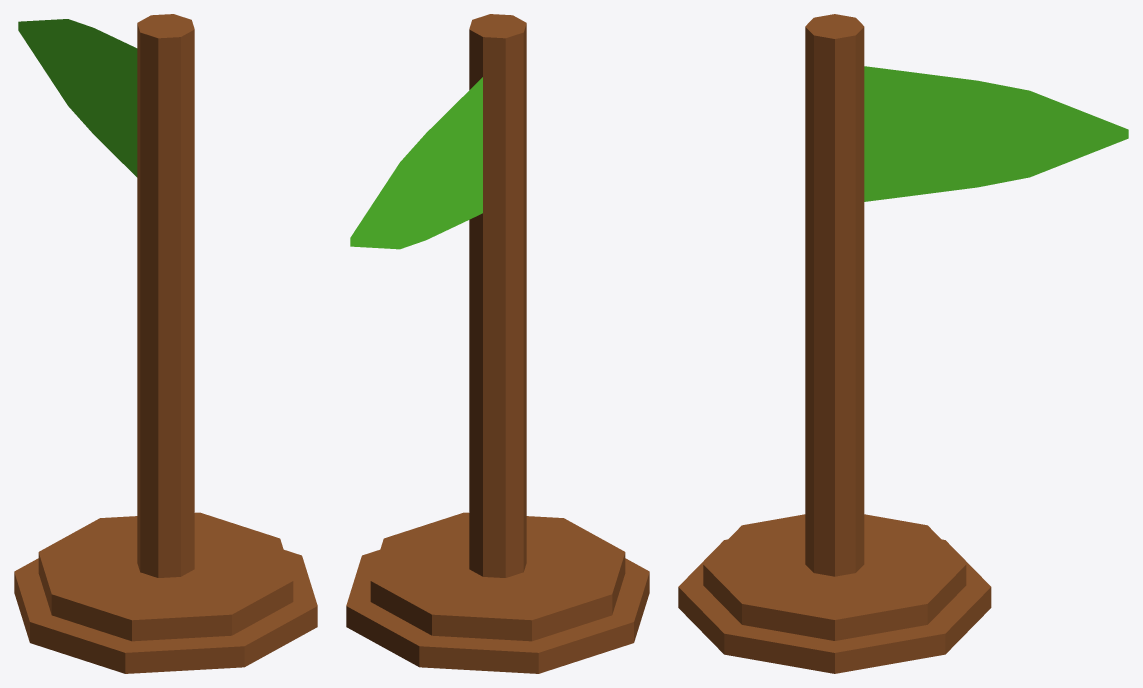
The model's file is Checkpoint.fbx.
3 renders of one model, left to right at view 1: azimuth 30°, elevation 25°; view 2: azimuth 150°, elevation 25°; view 3: azimuth 270°, elevation 25°, orthographic.
Visible parts, largest first — view 1: Checkpoint; view 2: Checkpoint; view 3: Checkpoint.
Boxes of the visible parts, x1,y1,x2,y2 form: Checkpoint: (14,14,317,673); Checkpoint: (346,14,649,673); Checkpoint: (678,14,1128,673).
Bounding box in the file's own units: 52.76 × 108 × 75.91.
